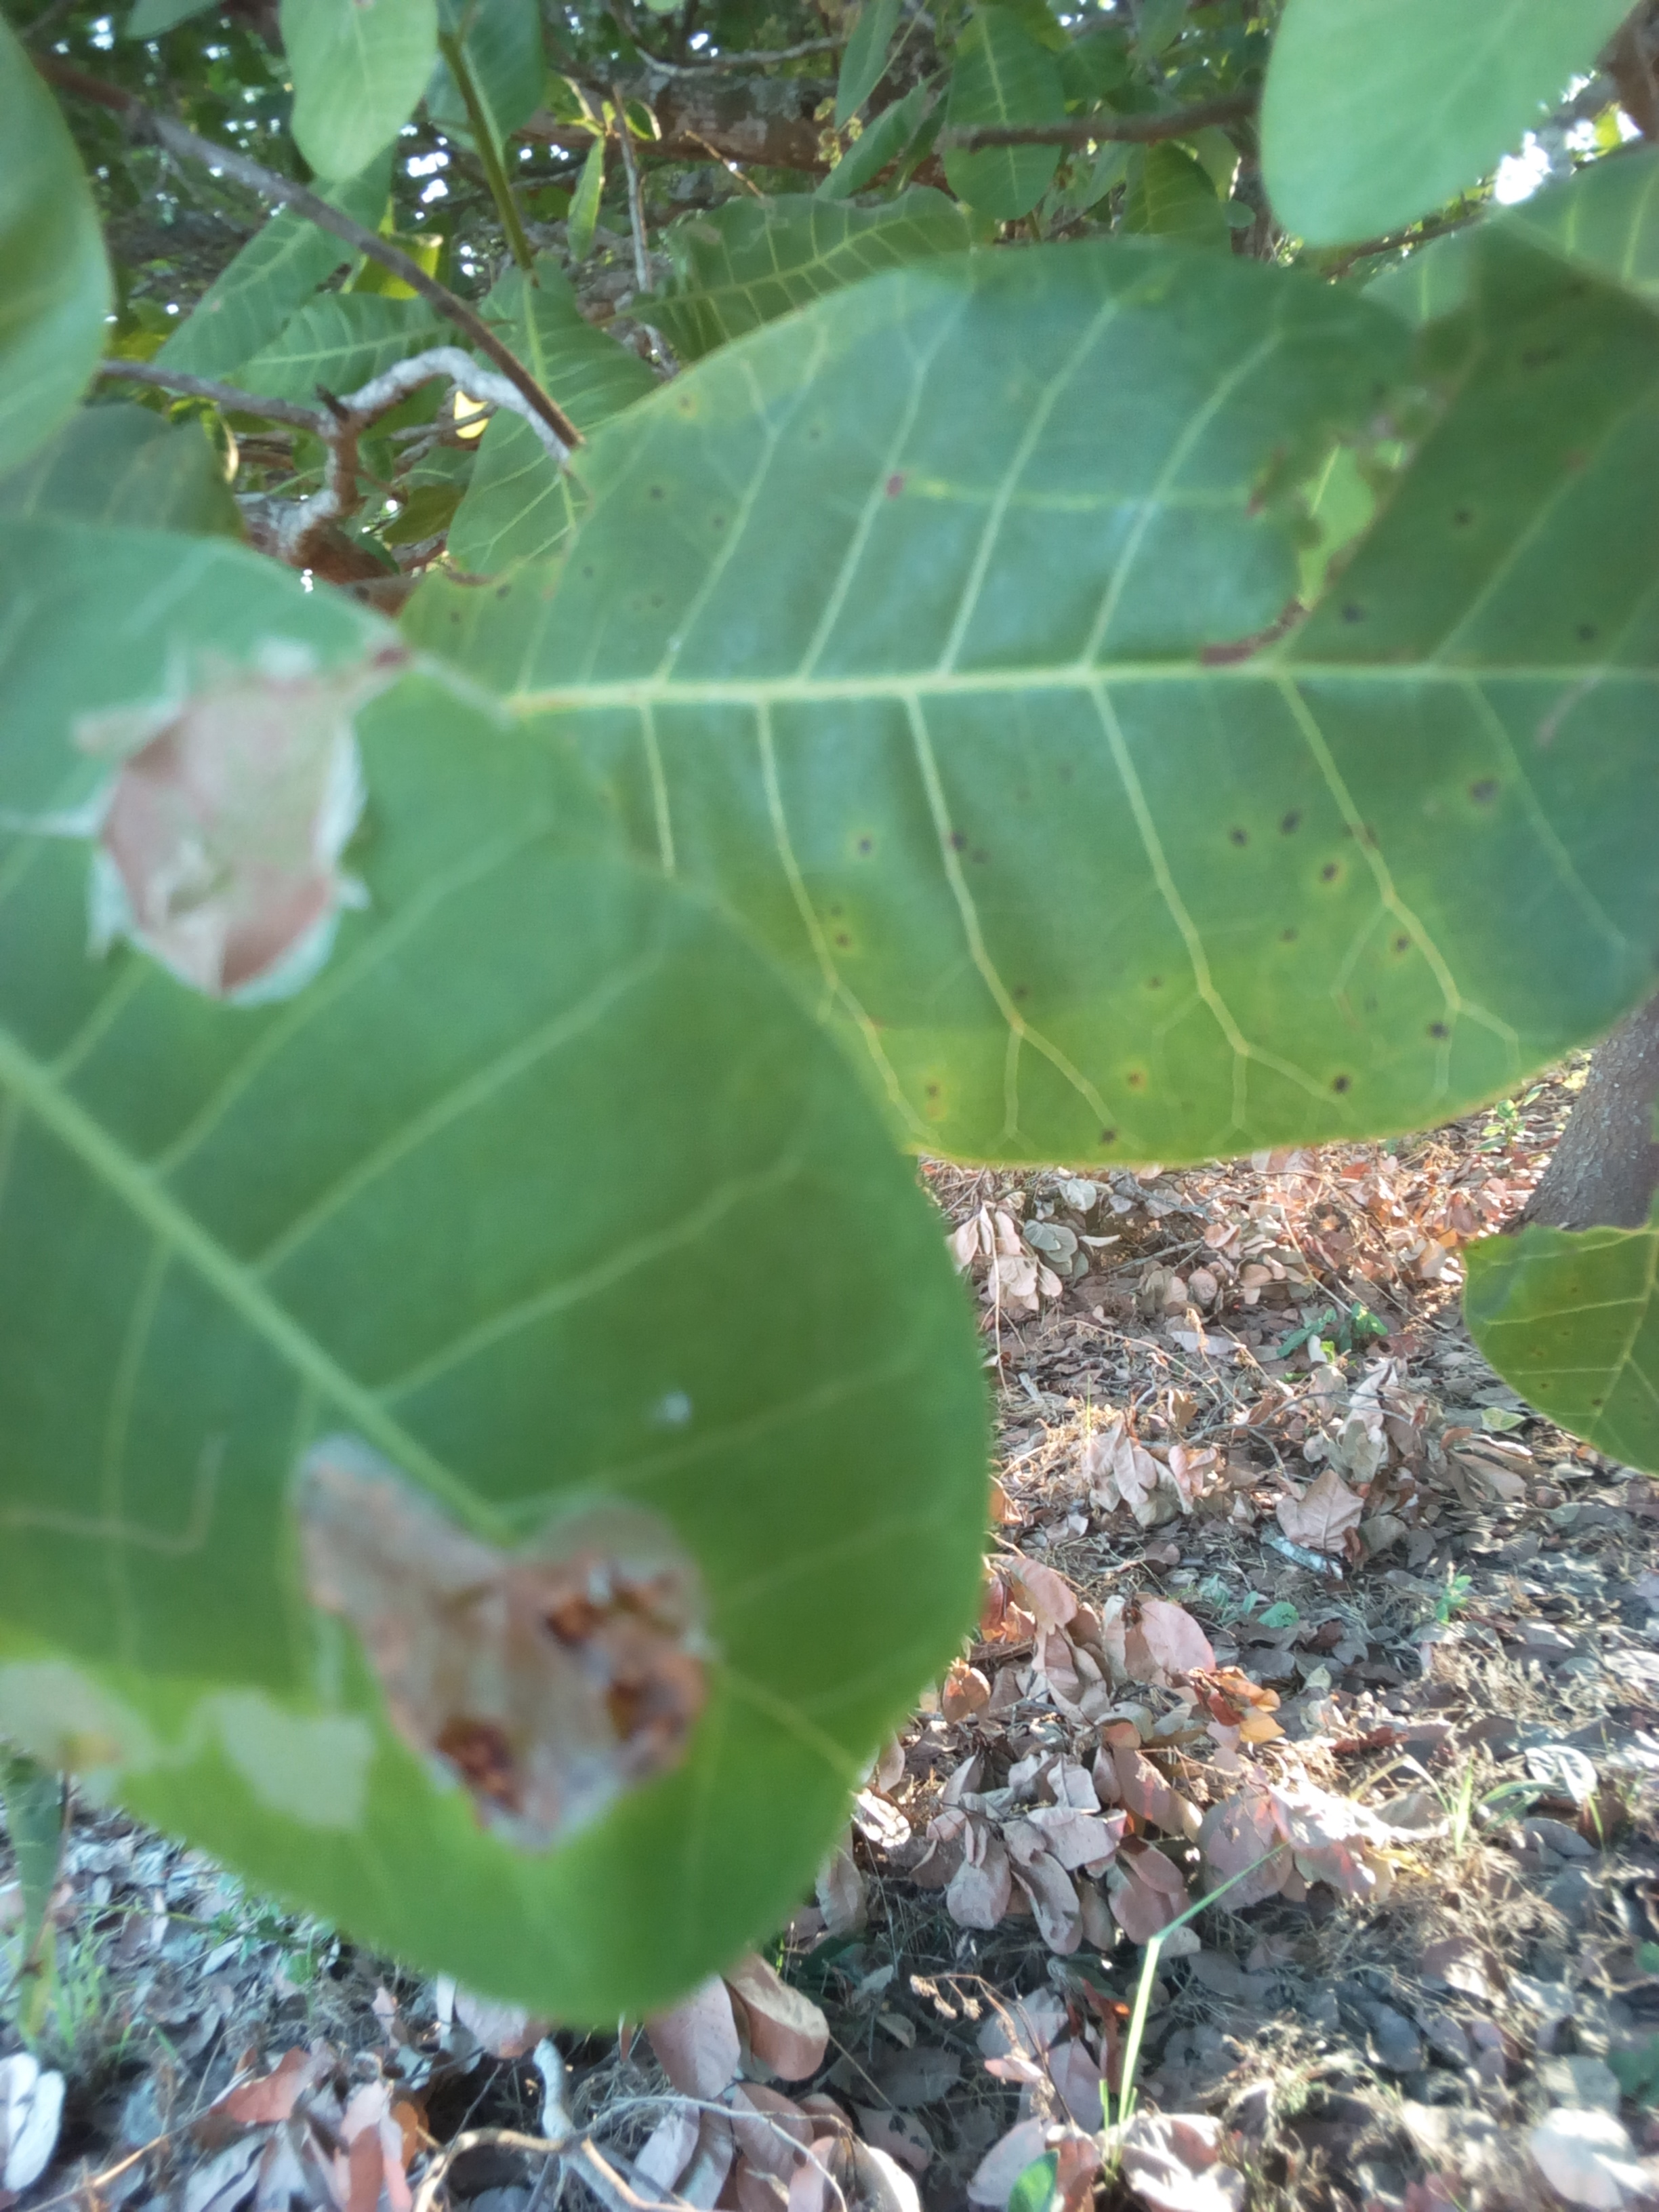Pestalotiose: (575, 263, 1659, 1106)
